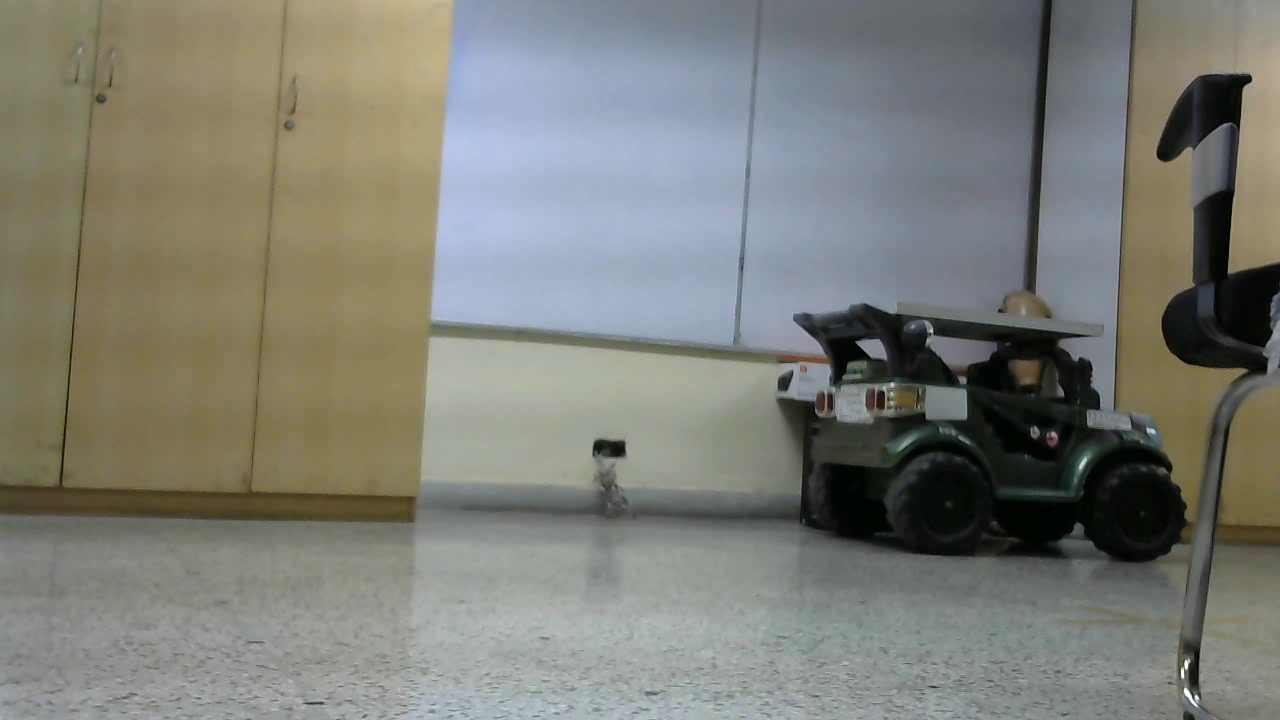chair: (549, 45, 836, 611)
